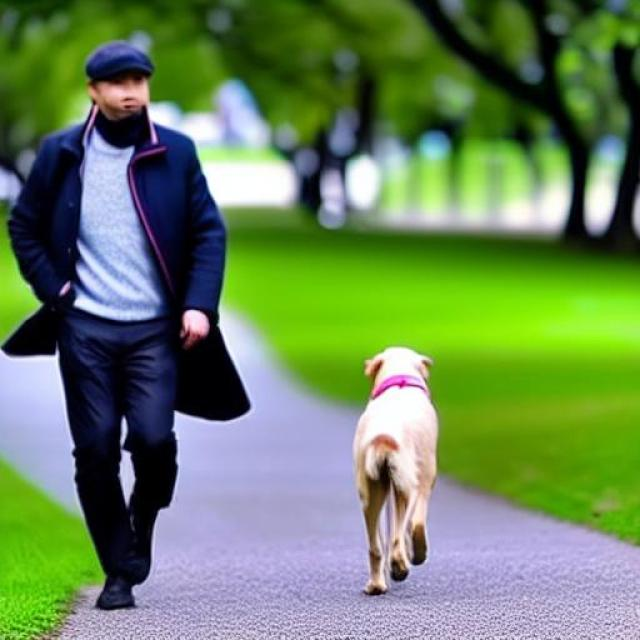Unleashed_Dog: (68, 307, 440, 596)
